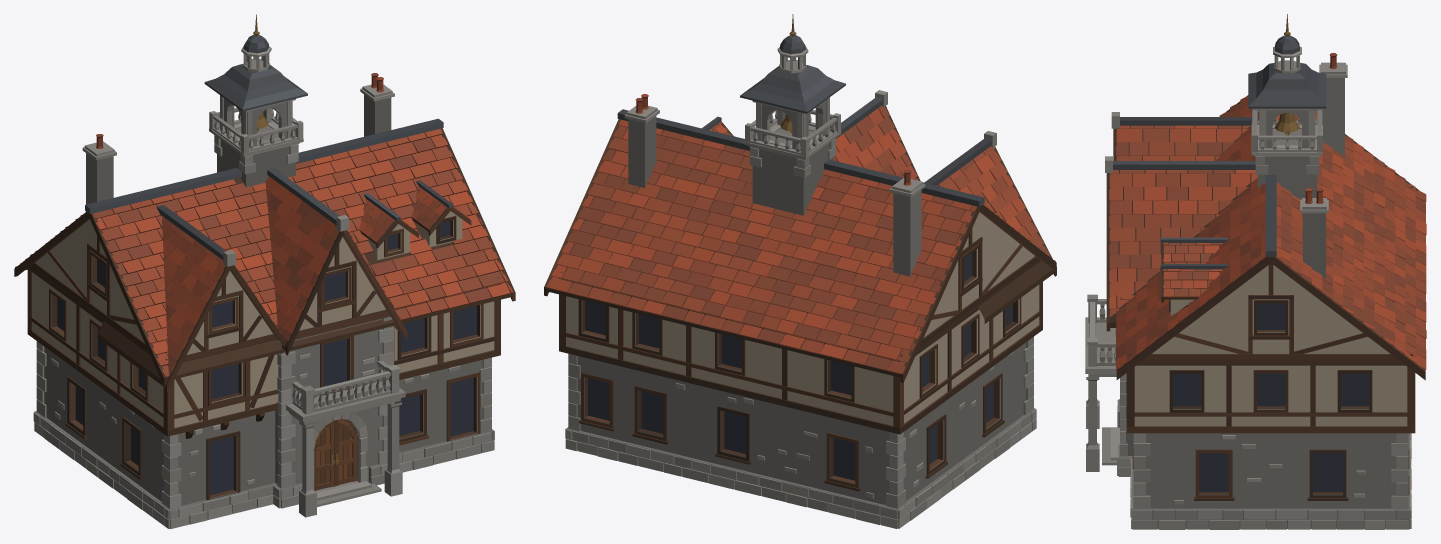
Rendered from village-hall-c6d3c8.glb.
3 views of the same model, side by side, from view 1: azimuth 30°, elevation 25°; view 2: azimuth 150°, elevation 25°; view 3: azimuth 270°, elevation 25° (orthographic). The views are drawn at different scales.
Visible parts, largest first — view 1: hall, door-r, door-l; view 2: hall; view 3: hall.
Boxes of the visible parts, bbox=[...] form: hall: bbox=[14, 14, 515, 529]; door-r: bbox=[334, 418, 357, 486]; door-l: bbox=[314, 420, 335, 490]; hall: bbox=[544, 14, 1056, 528]; hall: bbox=[1085, 14, 1426, 529].
Size of the model in its own units: 15.54 by 17.65 by 12.58.
